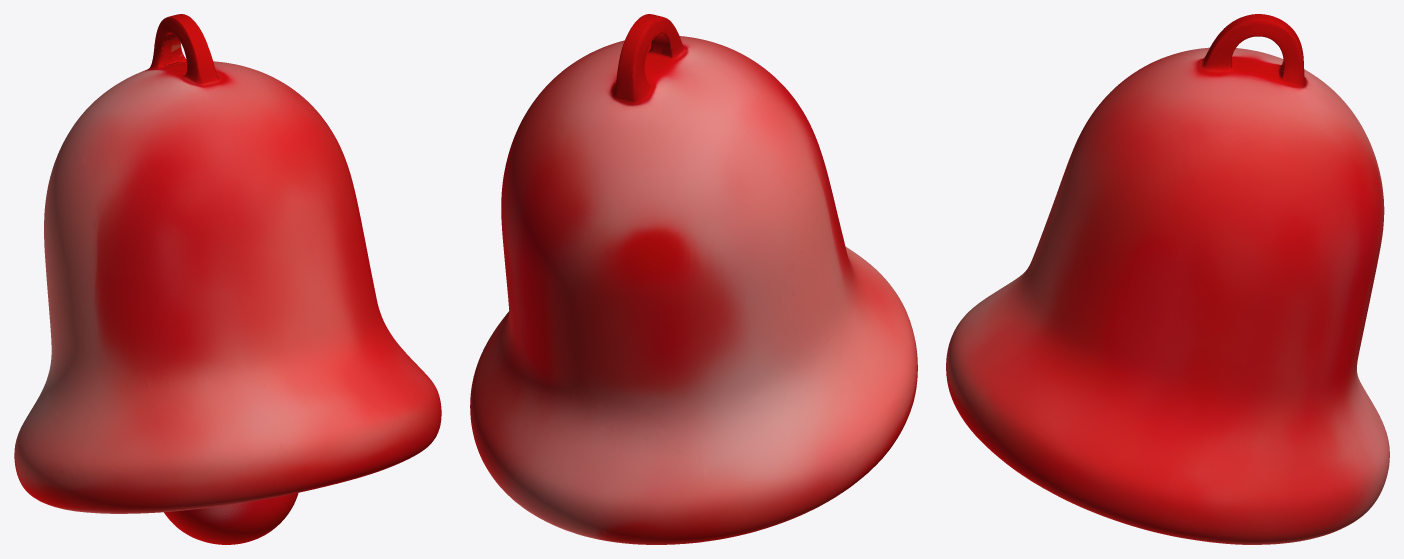
The model's file is priority_bell.glb.
3 views of the same model, side by side, from view 1: azimuth 30°, elevation 25°; view 2: azimuth 150°, elevation 25°; view 3: azimuth 270°, elevation 25° (orthographic). The views are drawn at different scales.
Visible parts, largest first — view 1: model; view 2: model; view 3: model.
Part boxes in pixels (bbox=[...]): model: bbox=[14, 14, 441, 544]; model: bbox=[470, 14, 917, 544]; model: bbox=[946, 14, 1389, 544].
Bounding box in the file's own units: 1.52 × 1.9 × 1.51.
1 material, 1 textured.
